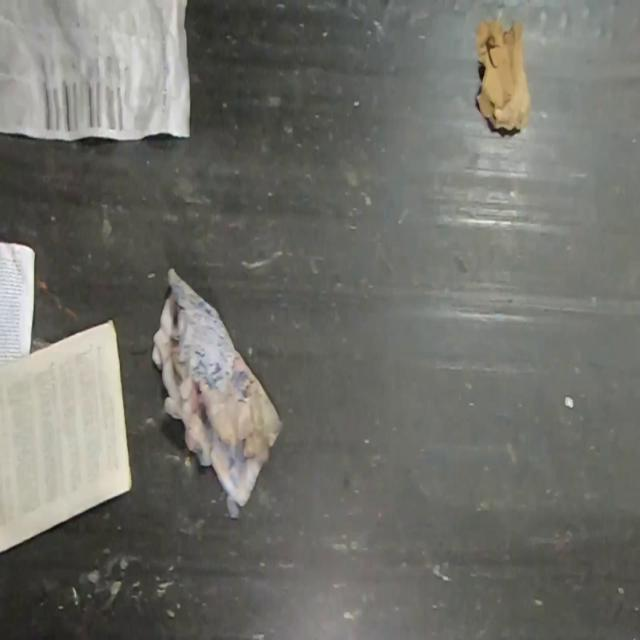cardboard: (474, 20, 532, 130)
